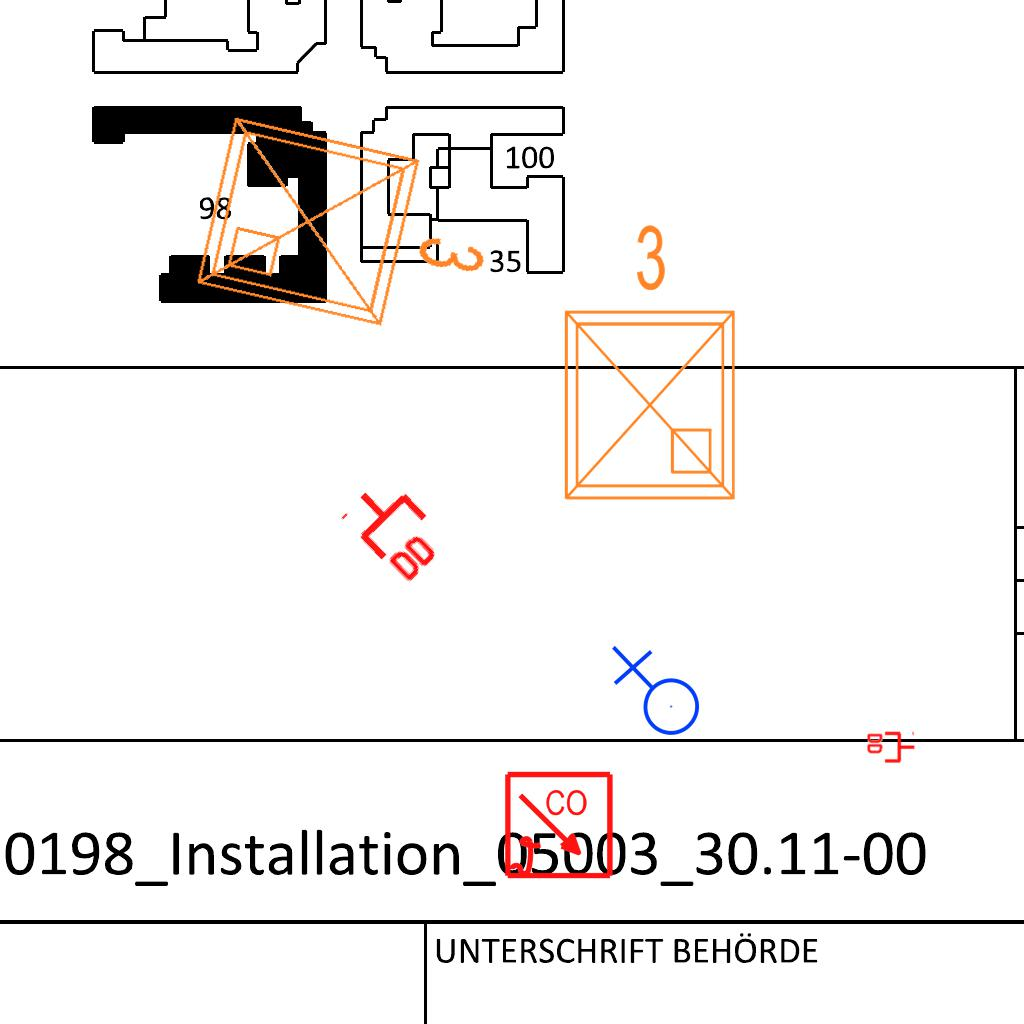Datenanschluss_zweifach: (336, 467, 459, 590), (865, 731, 916, 765)
Einbaudownlights_LED_Konferenzraeume: (179, 91, 519, 363), (542, 214, 750, 514)
Elektroanschluss_allgemein_230V_Geraeteanschlussdose_230V: (607, 645, 701, 744)
ROA_Rauchmelder_optisch_mit_Signalgeber_(Sockelsirene): (503, 770, 616, 883)
